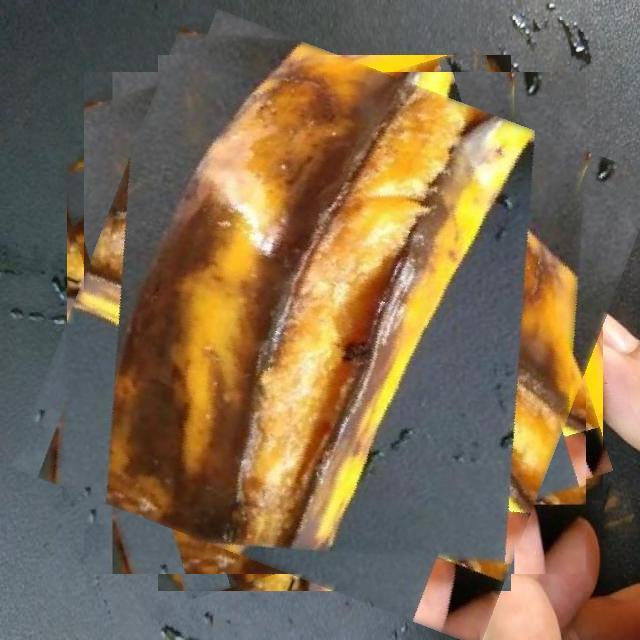Podre: (48, 36, 622, 610)
